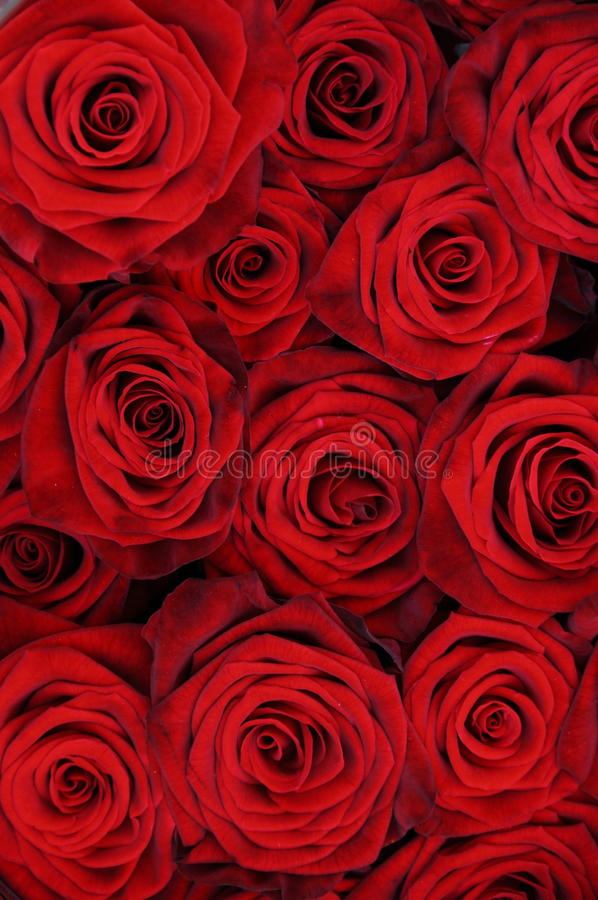RedRose: (0, 26, 242, 260), (247, 374, 450, 618), (0, 642, 179, 891), (48, 332, 253, 518), (244, 644, 406, 865), (465, 332, 598, 594), (356, 186, 550, 363), (249, 9, 434, 166), (430, 633, 572, 830), (218, 188, 349, 384), (0, 465, 153, 631), (482, 33, 598, 245), (386, 791, 596, 900)
